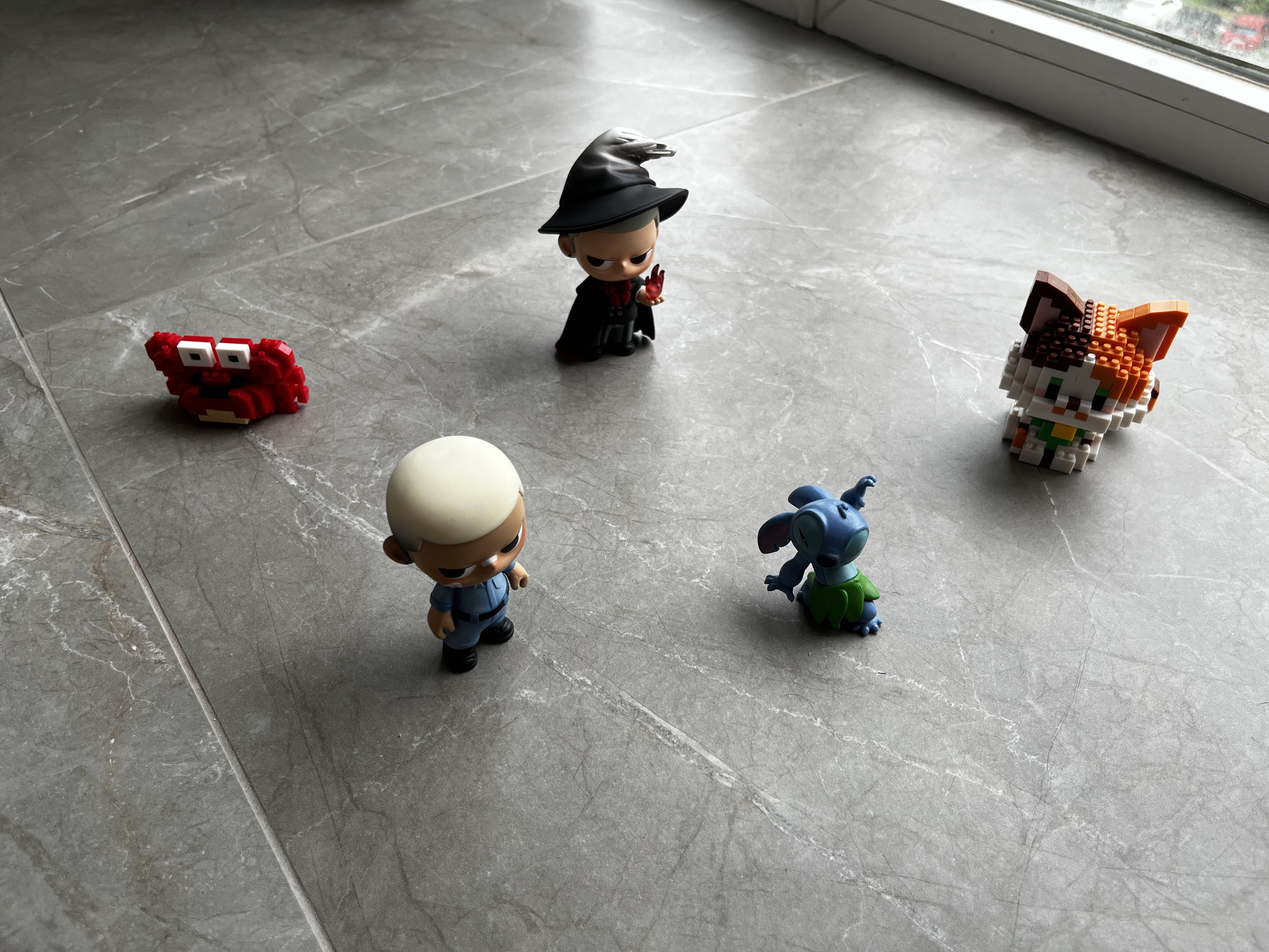cat: (983, 263, 1195, 485)
crab: (134, 316, 316, 435)
magician: (530, 125, 708, 372)
stitch: (748, 465, 907, 650)
worker: (369, 430, 550, 685)
